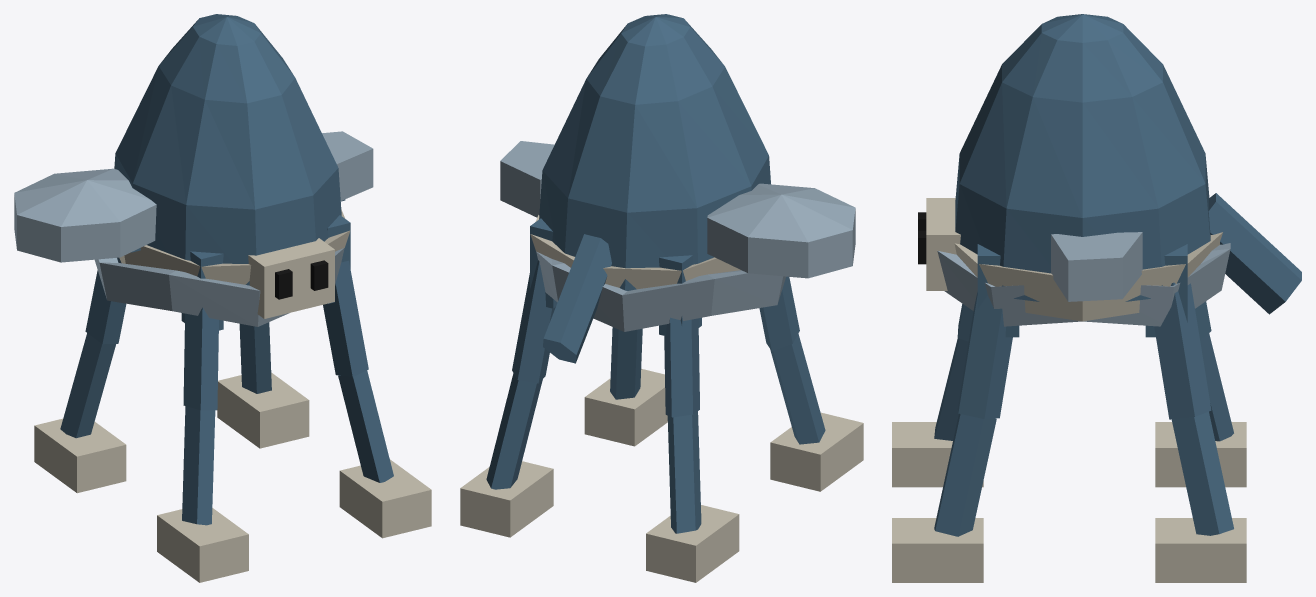
The model's file is pluvell.glb.
3 views of the same model, side by side, from view 1: azimuth 30°, elevation 25°; view 2: azimuth 150°, elevation 25°; view 3: azimuth 270°, elevation 25° (orthographic). The views are drawn at different scales.
Parts seen in each view (by area): view 1: Pluvell; view 2: Pluvell; view 3: Pluvell.
Part boxes in pixels (x1,y1,x2,y2): Pluvell: (14,14,431,582); Pluvell: (460,14,863,582); Pluvell: (892,14,1301,582).
Bounding box in the file's own units: 0.62 × 0.82 × 0.6.
